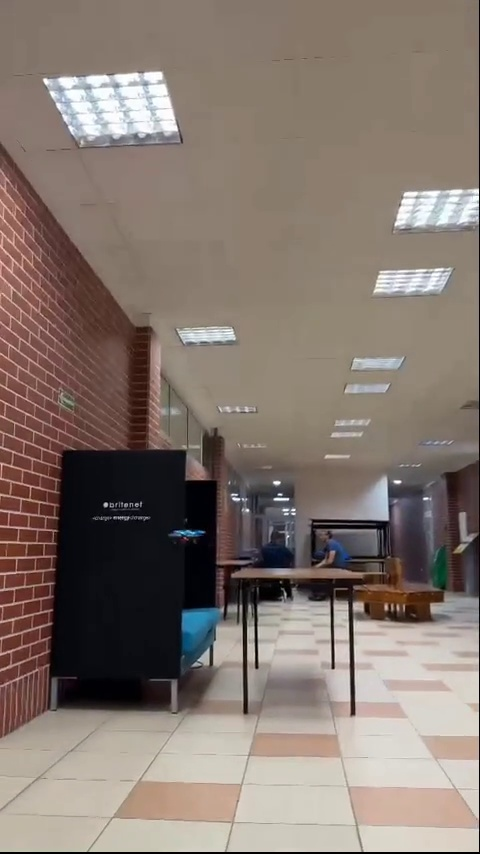drone: (169, 530, 205, 545)
no vest: (311, 527, 345, 569), (261, 530, 292, 565)
